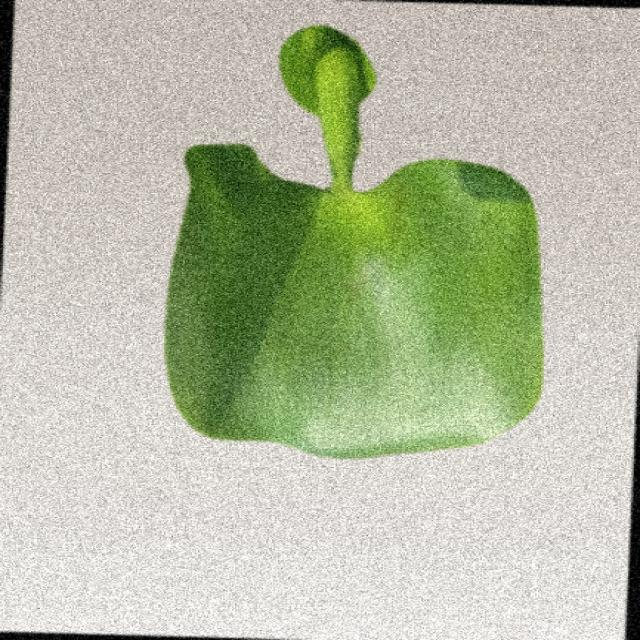daun sehat: (167, 26, 543, 457)
